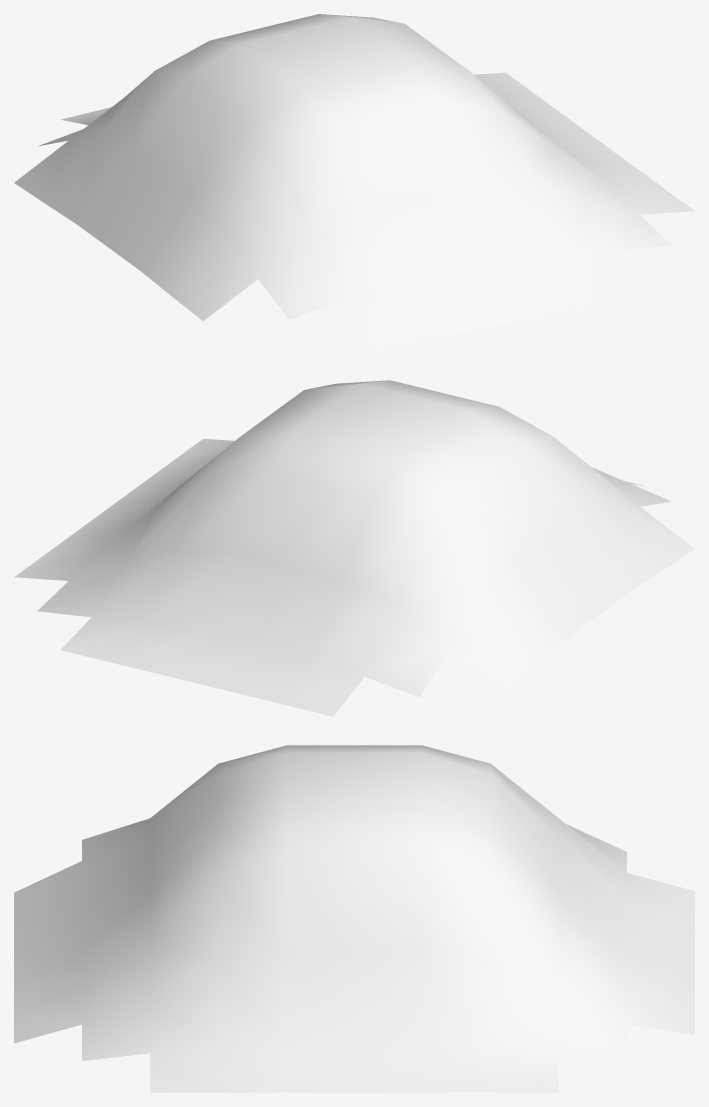
The model's file is Snow Mound 1.fbx.
3 views of the same model, one above another, from view 1: azimuth 30°, elevation 25°; view 2: azimuth 150°, elevation 25°; view 3: azimuth 270°, elevation 25° (orthographic). The views are drawn at different scales.
Parts seen in each view (by area): view 1: DirtMound_1; view 2: DirtMound_1; view 3: DirtMound_1.
Boxes of the visible parts, <box> form: DirtMound_1: <box>14,14,694,351</box>; DirtMound_1: <box>14,380,694,716</box>; DirtMound_1: <box>14,745,694,1092</box>.
Bounding box in the file's own units: 60.89 × 19.29 × 67.66.
Materials: 1 (1 with a texture image).
